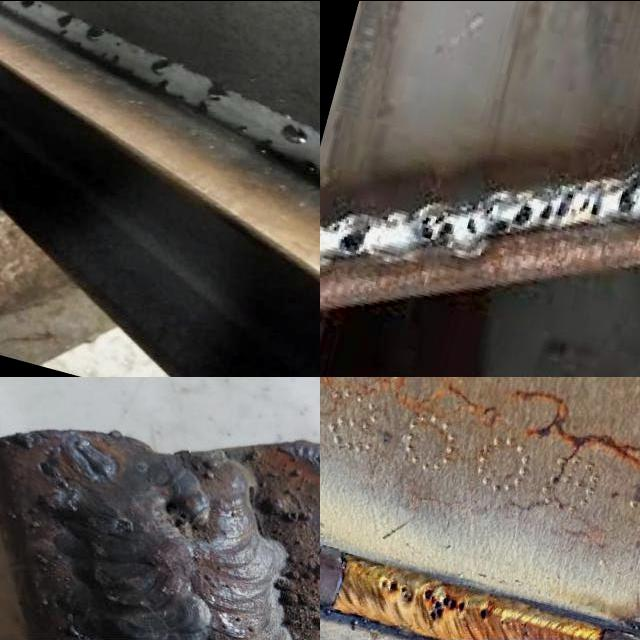defect: (422, 586, 472, 631), (538, 194, 605, 226), (416, 202, 460, 249), (490, 202, 538, 236), (615, 165, 640, 220), (340, 217, 375, 253), (161, 498, 193, 533), (379, 575, 416, 604), (204, 78, 237, 106), (276, 123, 311, 147), (106, 514, 135, 535), (54, 12, 77, 37), (148, 56, 172, 75), (464, 213, 482, 238), (253, 137, 273, 156), (81, 26, 107, 40), (301, 159, 319, 176), (17, 0, 47, 10), (156, 78, 173, 95), (194, 98, 211, 114), (476, 603, 491, 621), (98, 51, 121, 62), (234, 122, 250, 133), (176, 92, 185, 101), (115, 40, 124, 49)
